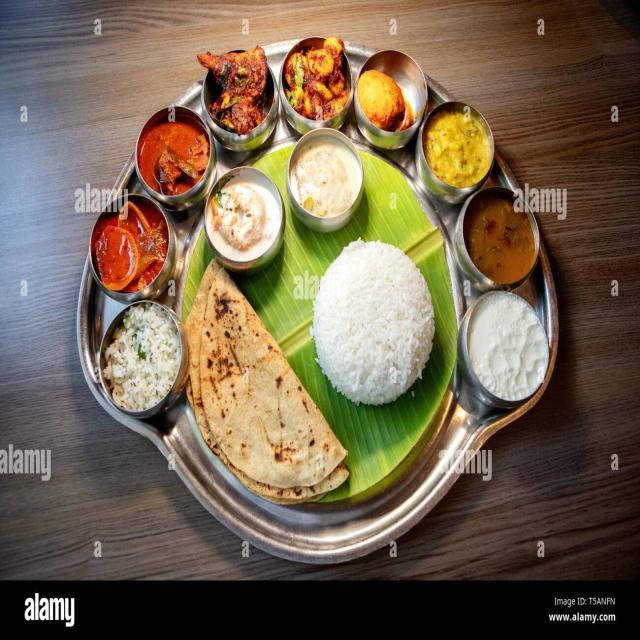dal: (420, 106, 498, 194)
raita: (200, 175, 289, 261), (286, 137, 367, 223)
rice: (306, 235, 439, 407), (458, 283, 554, 409), (94, 304, 185, 414), (286, 137, 367, 223)
roti: (184, 272, 352, 496)
sambar-rasam: (454, 181, 542, 297)
sweet: (206, 175, 287, 259)
veg-fry: (84, 192, 177, 300), (136, 104, 214, 205)
